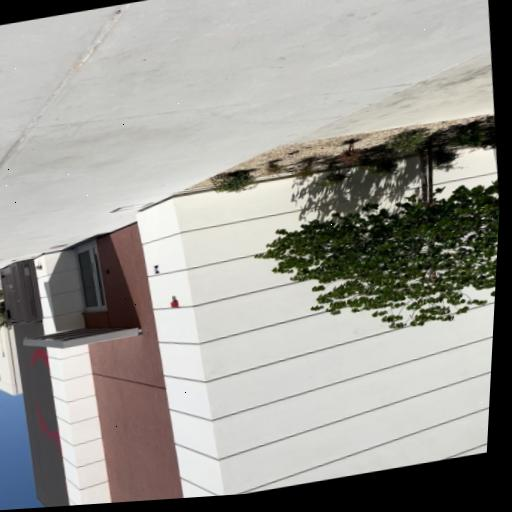target6: (154, 265, 160, 274)
